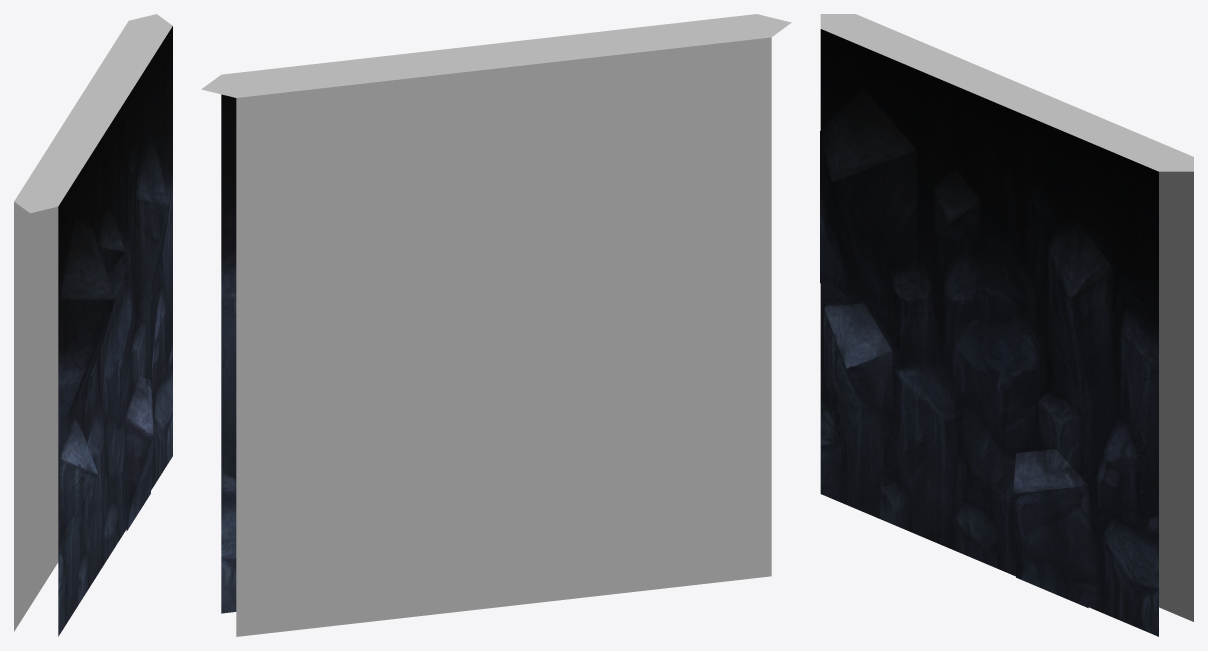
Rendered from mine_fade_diagonal_01.fbx.
3 renders of one model, left to right at view 1: azimuth 30°, elevation 25°; view 2: azimuth 150°, elevation 25°; view 3: azimuth 270°, elevation 25°, orthographic. The views are drawn at different scales.
Parts seen in each view (by area): view 1: mine_fade_diagonal_01-0; view 2: mine_fade_diagonal_01-0; view 3: mine_fade_diagonal_01-0.
Boxes of the visible parts, x1,y1,x2,y2 form: mine_fade_diagonal_01-0: [14, 14, 172, 636]; mine_fade_diagonal_01-0: [201, 14, 791, 636]; mine_fade_diagonal_01-0: [820, 14, 1193, 636].
Bounding box in the file's own units: 4 × 5.5 × 4.01.
